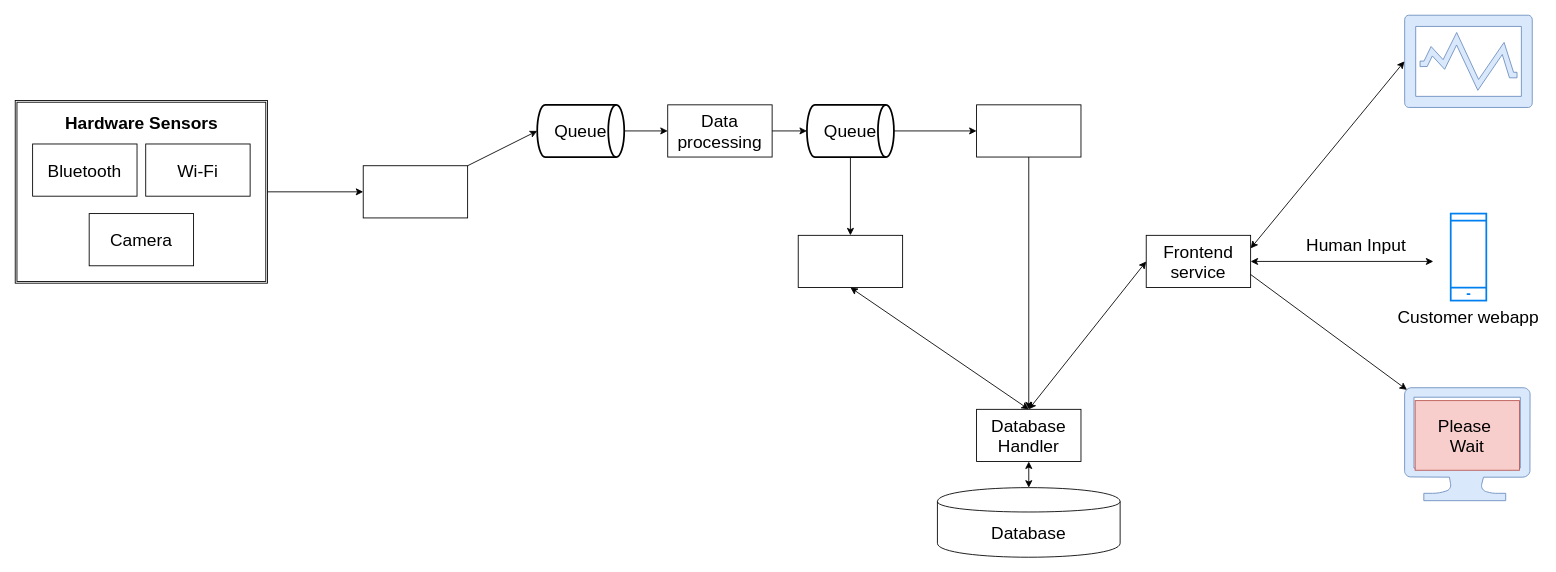
The diagram is 1556 pixels wide and 572 high, and some of its shapes have lost their labels. The box of each missing label's shape, as (x1, y1, x2, y2) in pixels:
Controller: (362, 165, 468, 218)
Data service: (976, 104, 1081, 157)
Monitoring and controlling webapp: (1404, 14, 1533, 107)
Planning service: (797, 234, 903, 288)
Shop displays: (1404, 387, 1530, 501)
